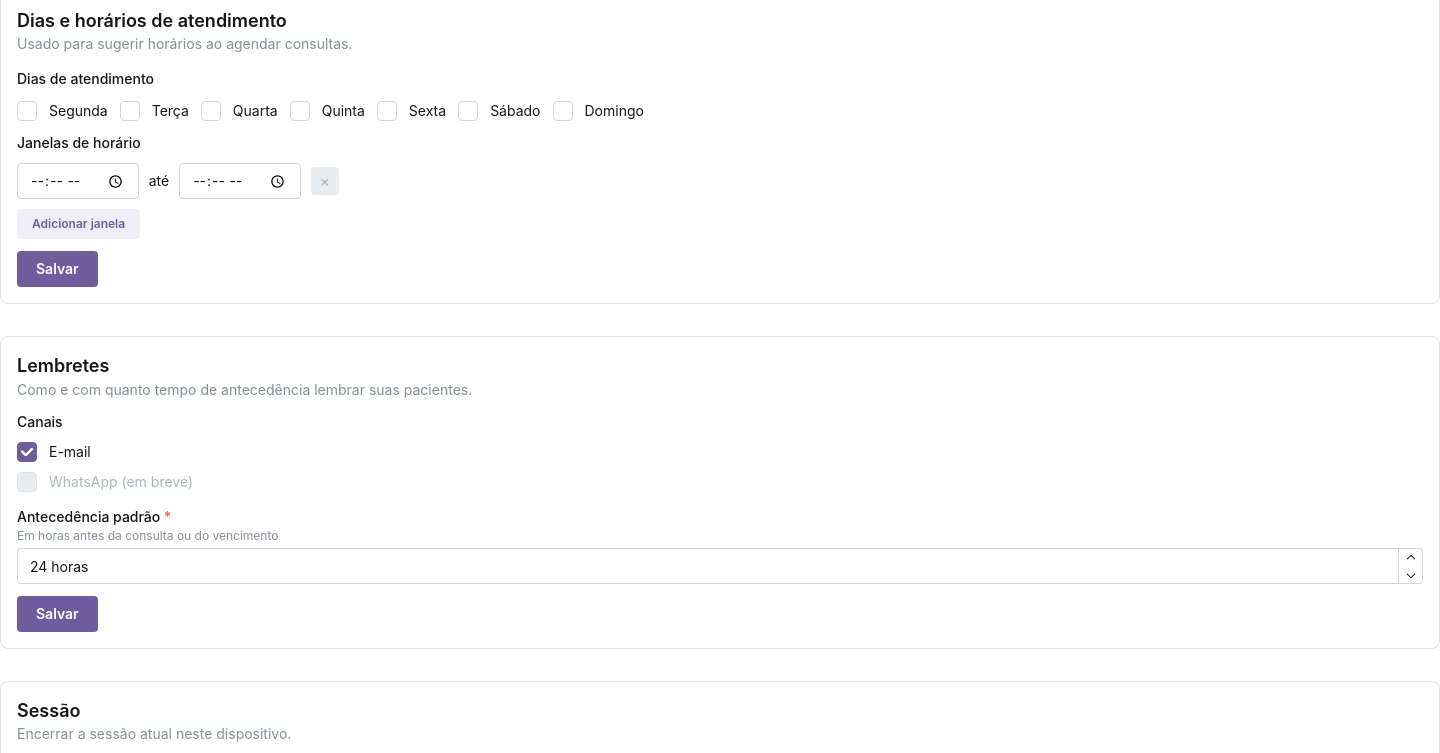
Test case: SettingsPage › seção lembretes: exige ao menos um canal habilitado
The width and height of the screenshot is (1440, 753).
(page scrolled)
Expected: the element with test id "settings-section-lembretes" is shown, 0,336 -> 1439,649
Click the checkbox labelled "E-mail" at (27, 452), box 17,442 -> 37,462
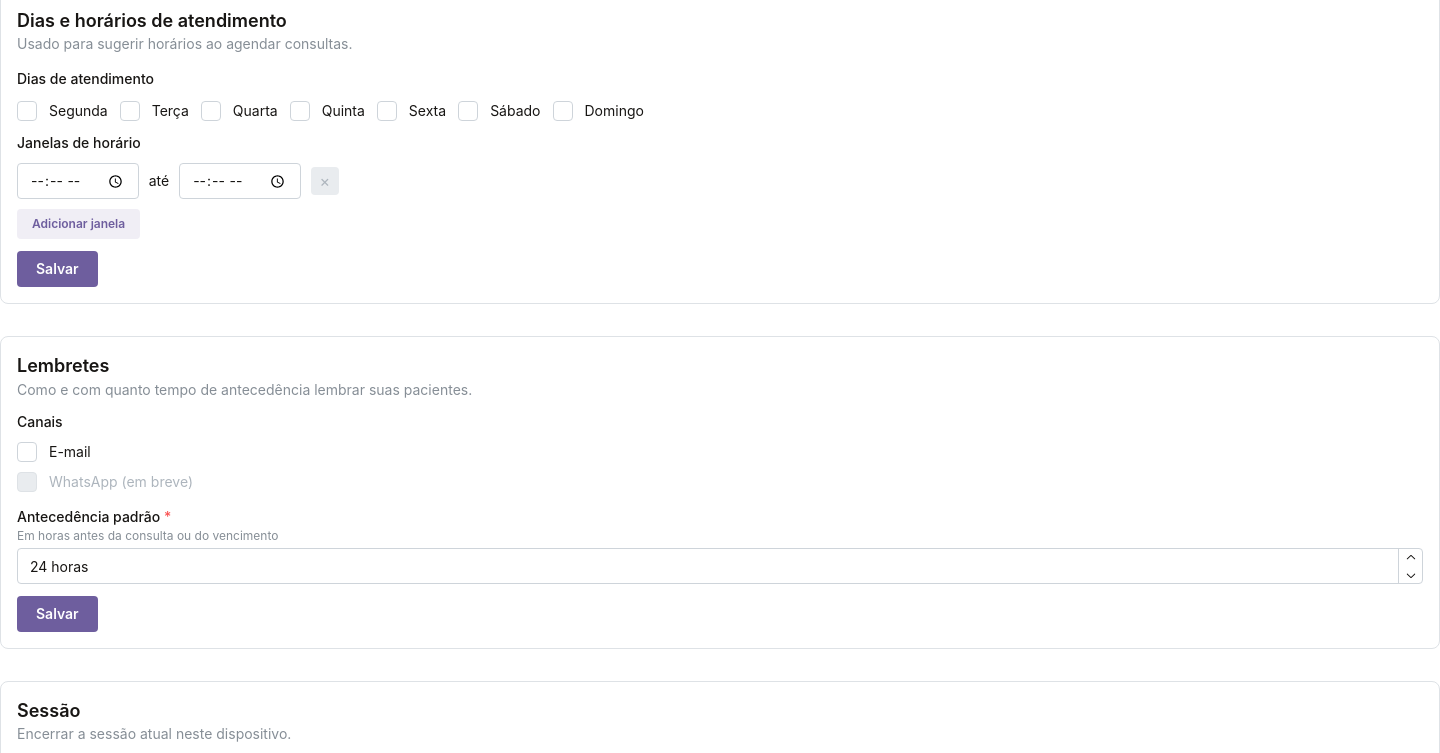
Click the submit button at (57, 614), box 17,596 -> 98,632
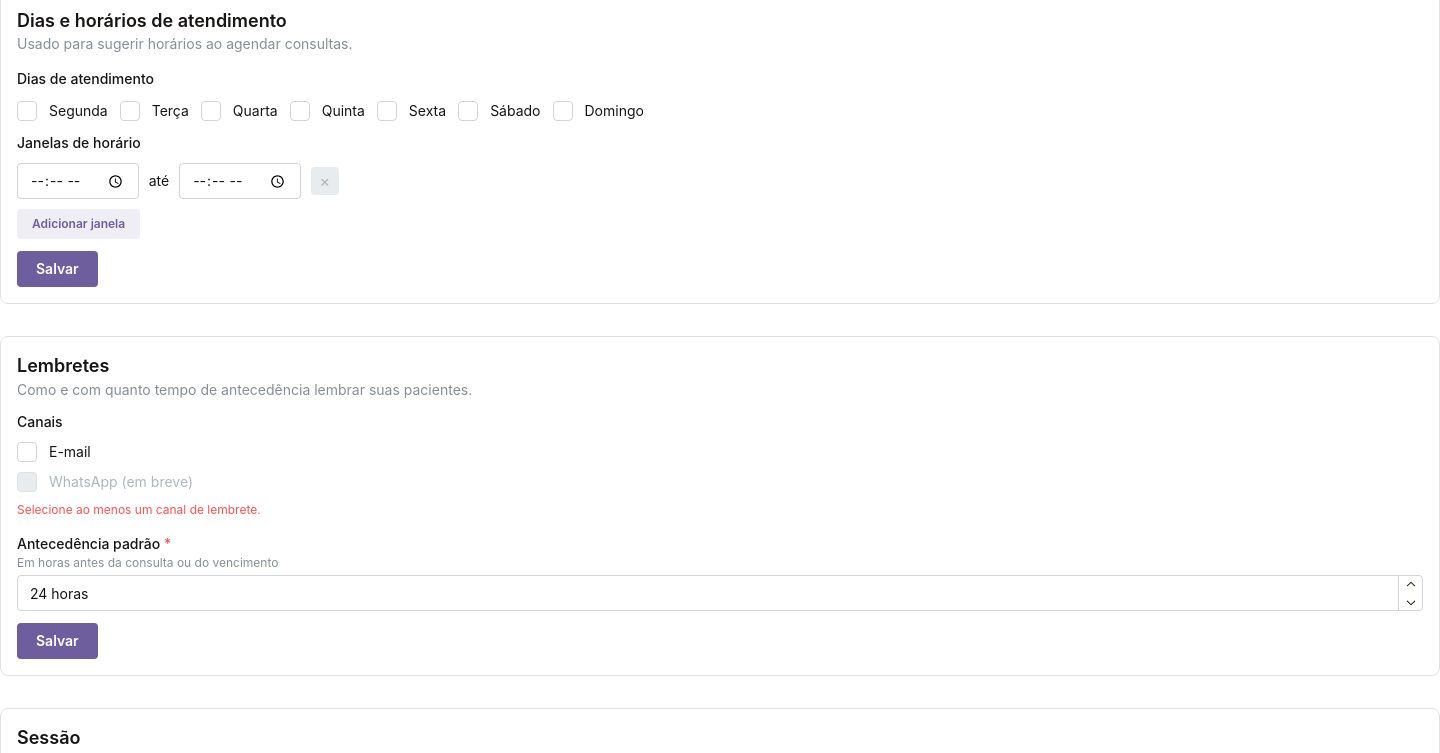
Result: the text "Selecione ao menos um canal de lembrete." is shown at 17,502 -> 261,517
